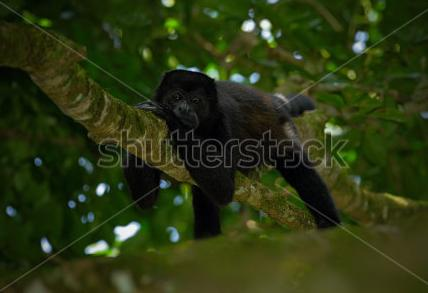monkey: (135, 68, 341, 241)
